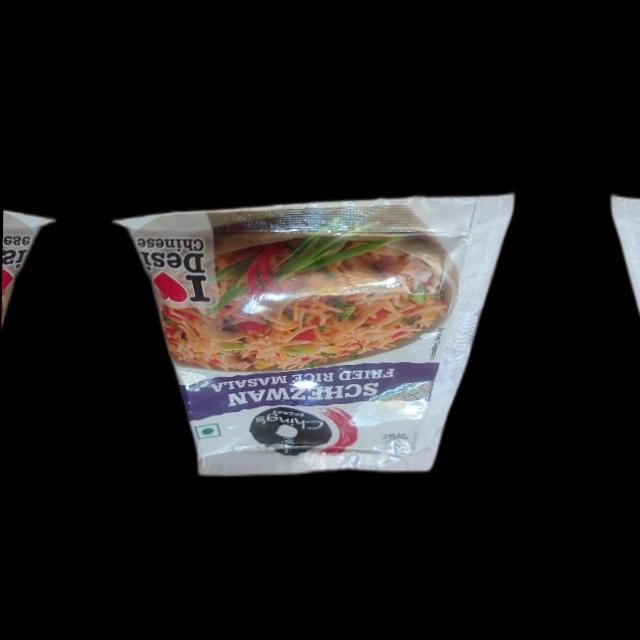Ching-s secret schezwan fried masala: (107, 188, 520, 490)
